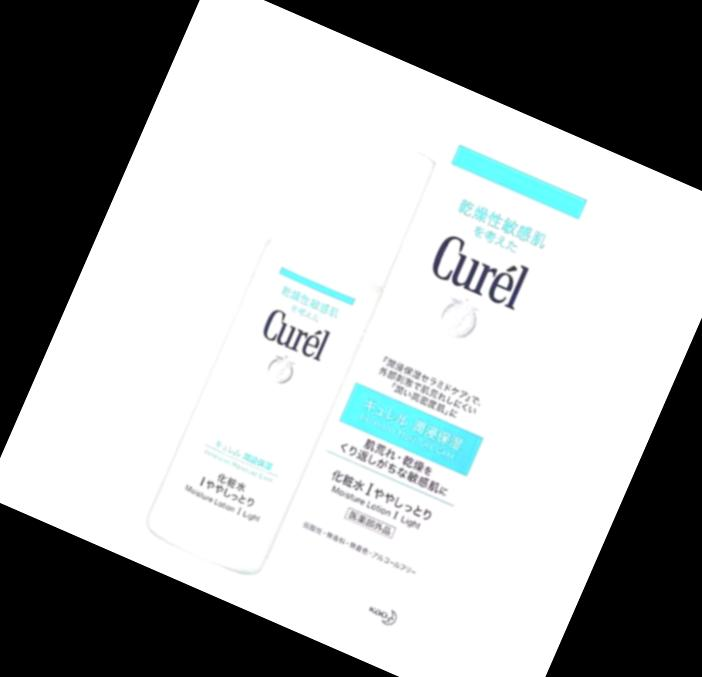cosmetic: (145, 111, 442, 572)
